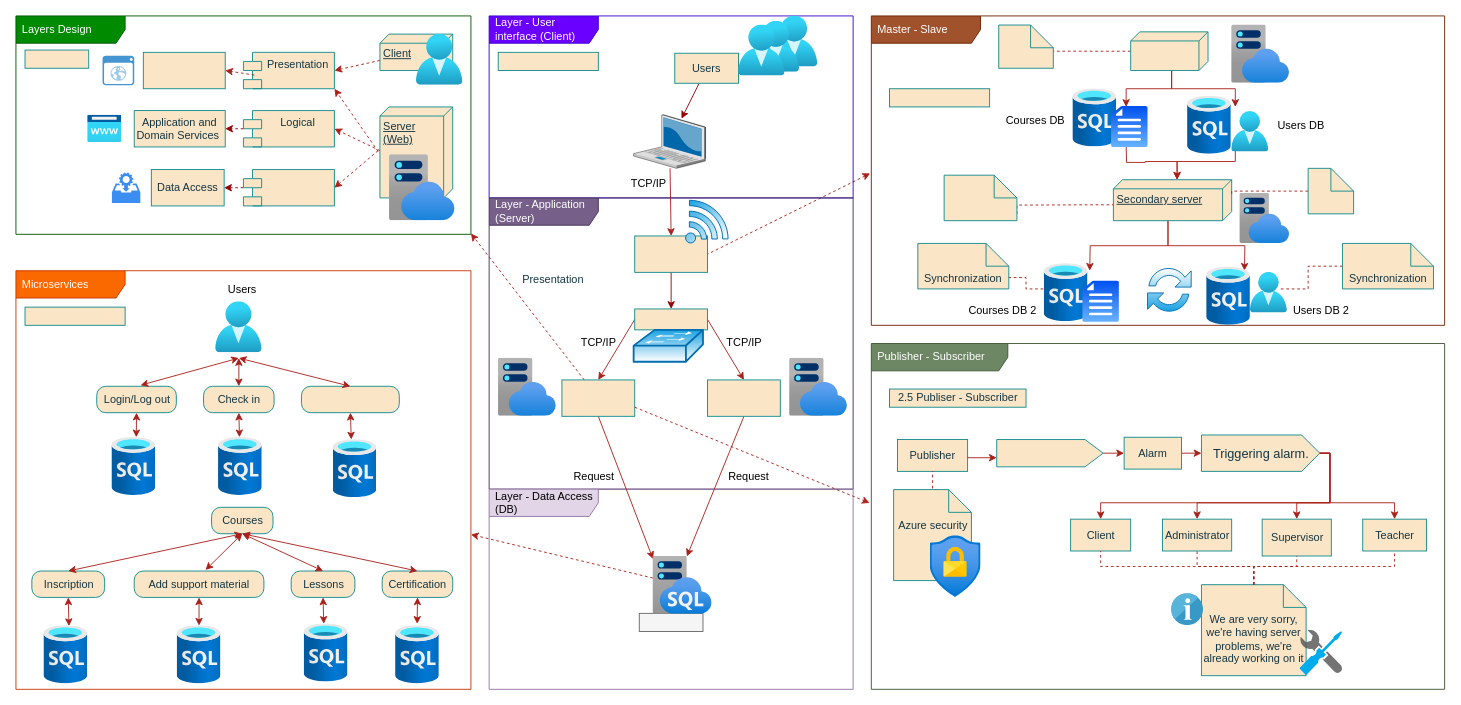
Image size: 1461x705. Some labels were removed from this diagram. The shapes that lost their labels are listed below. From the top down, each one's centre as x and y in pixels, then its label:
At point 56,58: "2.2 Layers".
At point 547,61: "2.3 Client-Server".
At point 1025,46: "Master".
At point 1169,51: "Main server".
At point 183,70: "User Interfaces".
At point 939,97: "2.4 Master - Slave".
At point 288,187: "Persistence".
At point 980,197: "Replication".
At point 1330,190: "Slave".
At point 671,253: "Internet".
At point 74,315: "2.1 Microservices".
At point 671,319: "Switch".
At point 350,399: "Pay for a course".
At point 598,397: "Main Web Server".
At point 743,397: "Secondary Web Server".
At point 1049,453: "Alarm channel".
At point 670,622: "DB Server".
